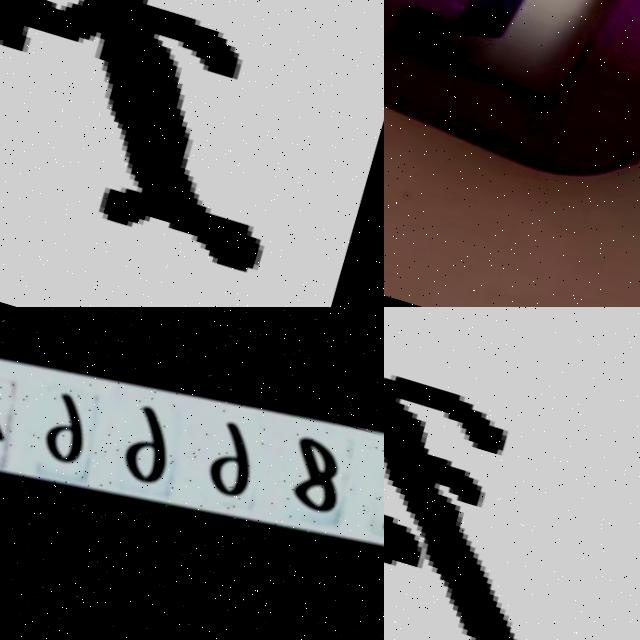1: (342, 422, 384, 548)
4: (0, 355, 40, 474)
6: (93, 379, 205, 504), (177, 396, 288, 518), (17, 369, 118, 482)
8: (257, 407, 376, 538)
B: (384, 376, 516, 640)
F: (0, 0, 280, 244)
G: (384, 0, 640, 200)
